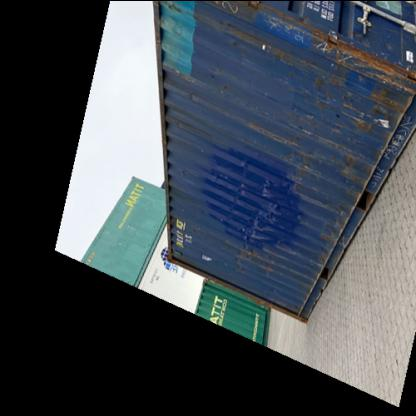Damage: (312, 22, 389, 132), (234, 211, 266, 264), (242, 121, 297, 151), (231, 171, 273, 195), (338, 152, 366, 182), (210, 1, 250, 21), (171, 89, 201, 110), (157, 1, 185, 19)
